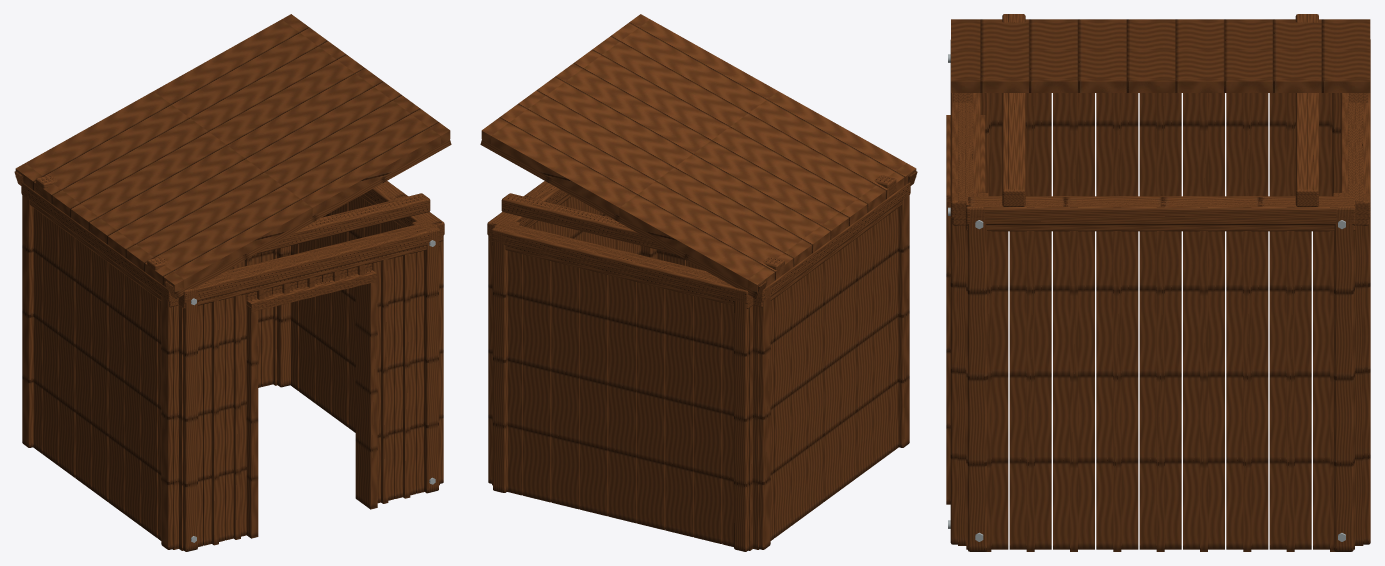
The model's file is roadside-survival-stops-maintenance-shed-shell-7048924e__23549.glb.
3 views of the same model, side by side, from view 1: azimuth 30°, elevation 25°; view 2: azimuth 150°, elevation 25°; view 3: azimuth 270°, elevation 25° (orthographic). The views are drawn at different scales.
Visible parts, largest first — view 1: maintenance-shed-shell; view 2: maintenance-shed-shell; view 3: maintenance-shed-shell.
Boxes of the visible parts, x1,y1,x2,y2 form: maintenance-shed-shell: (14,14,451,551); maintenance-shed-shell: (480,14,917,551); maintenance-shed-shell: (946,14,1370,551).
Size of the model in its own units: 2.18 by 2.66 by 2.18.
Materials: 2 (1 with a texture image).
